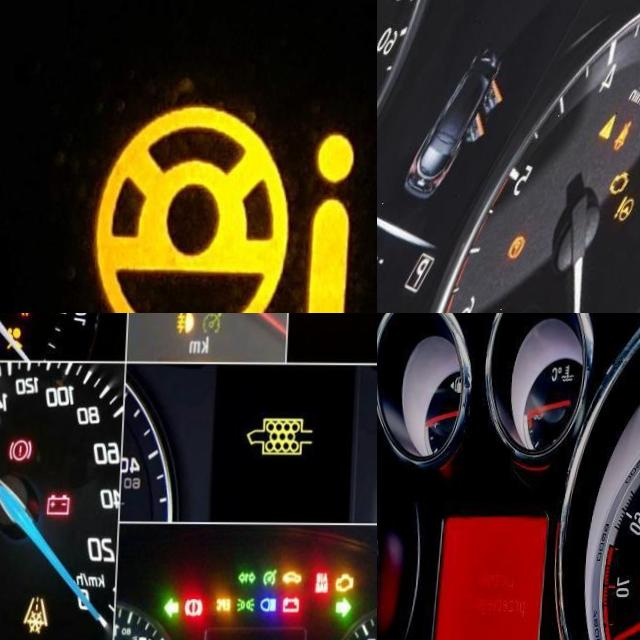Electronic Power Steering: (92, 104, 361, 313)
Electronic Power Steering Warning: (617, 195, 640, 223)
Seat Belt: (615, 119, 637, 152)
